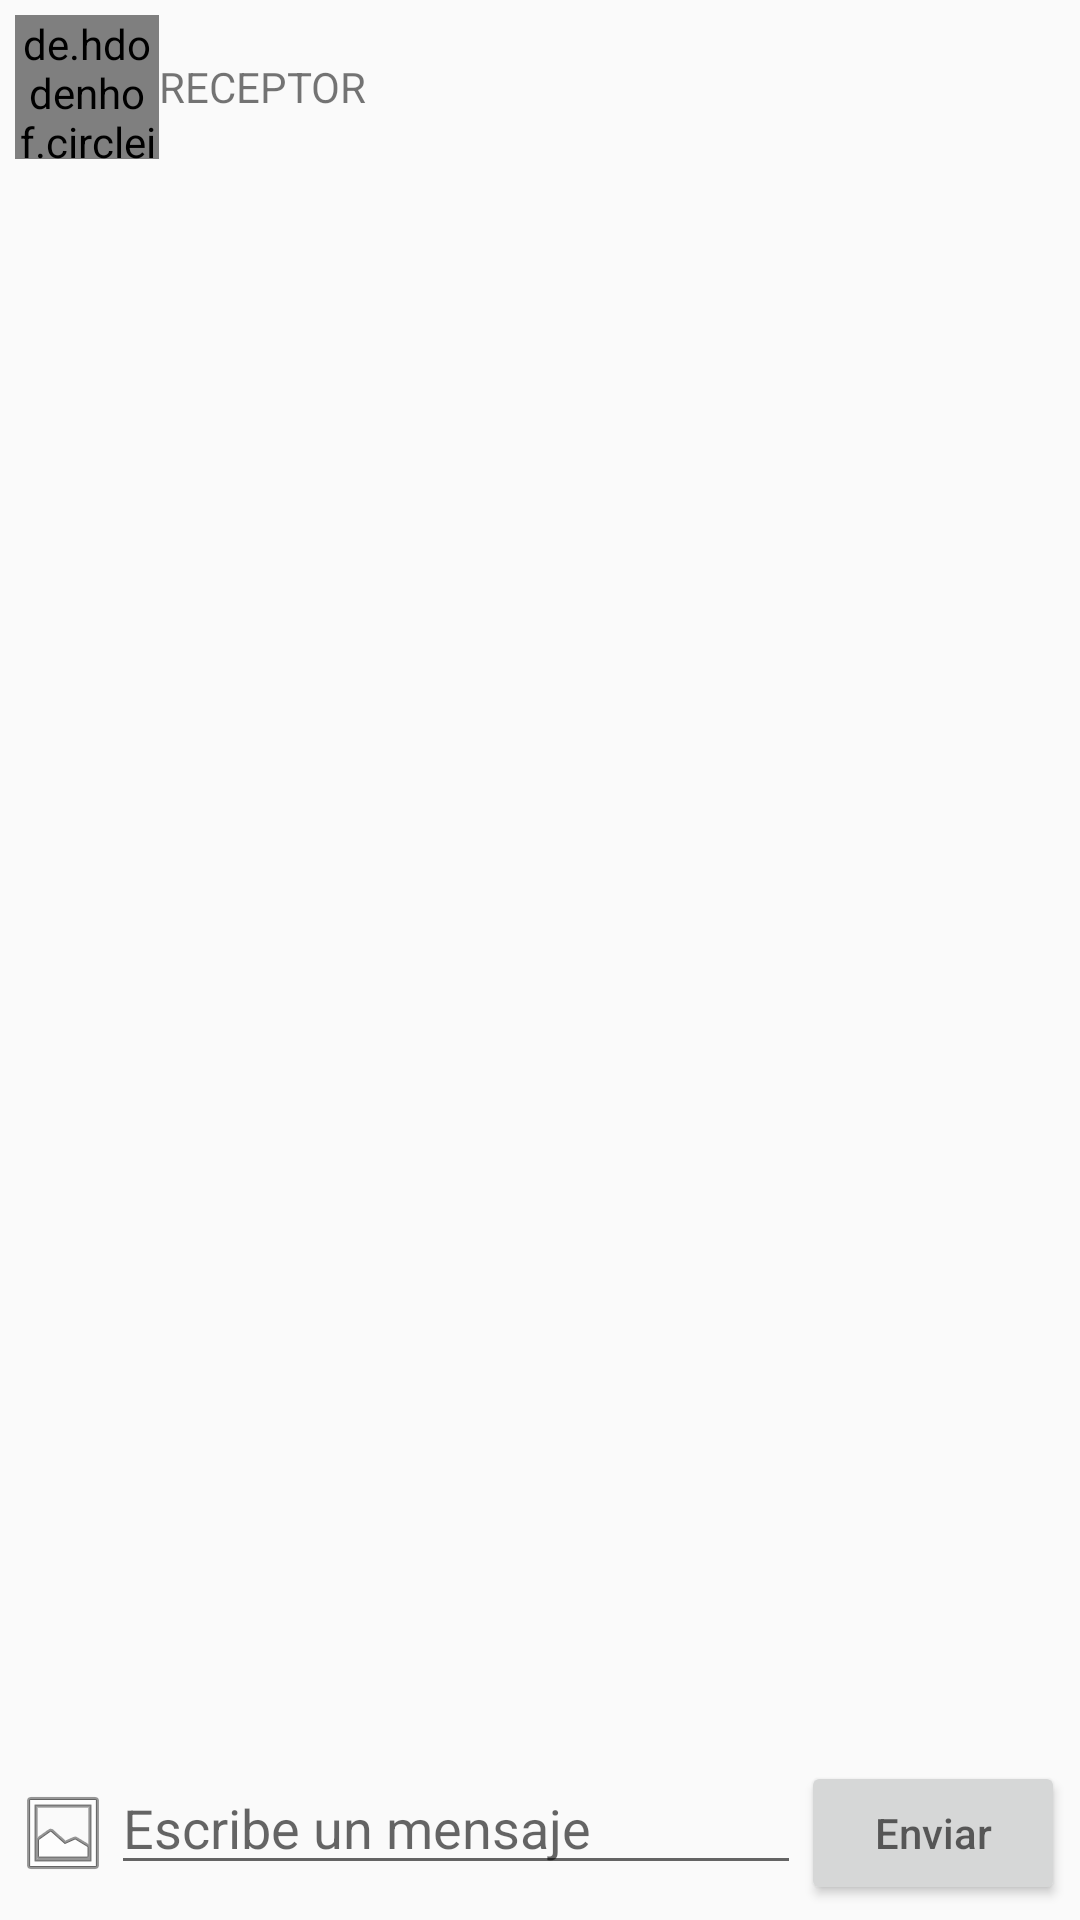

Where icons sit on this 1080 x 1920 app screen, as (x1, y1, x2, y2):
gallery: (27, 1797, 99, 1869)
